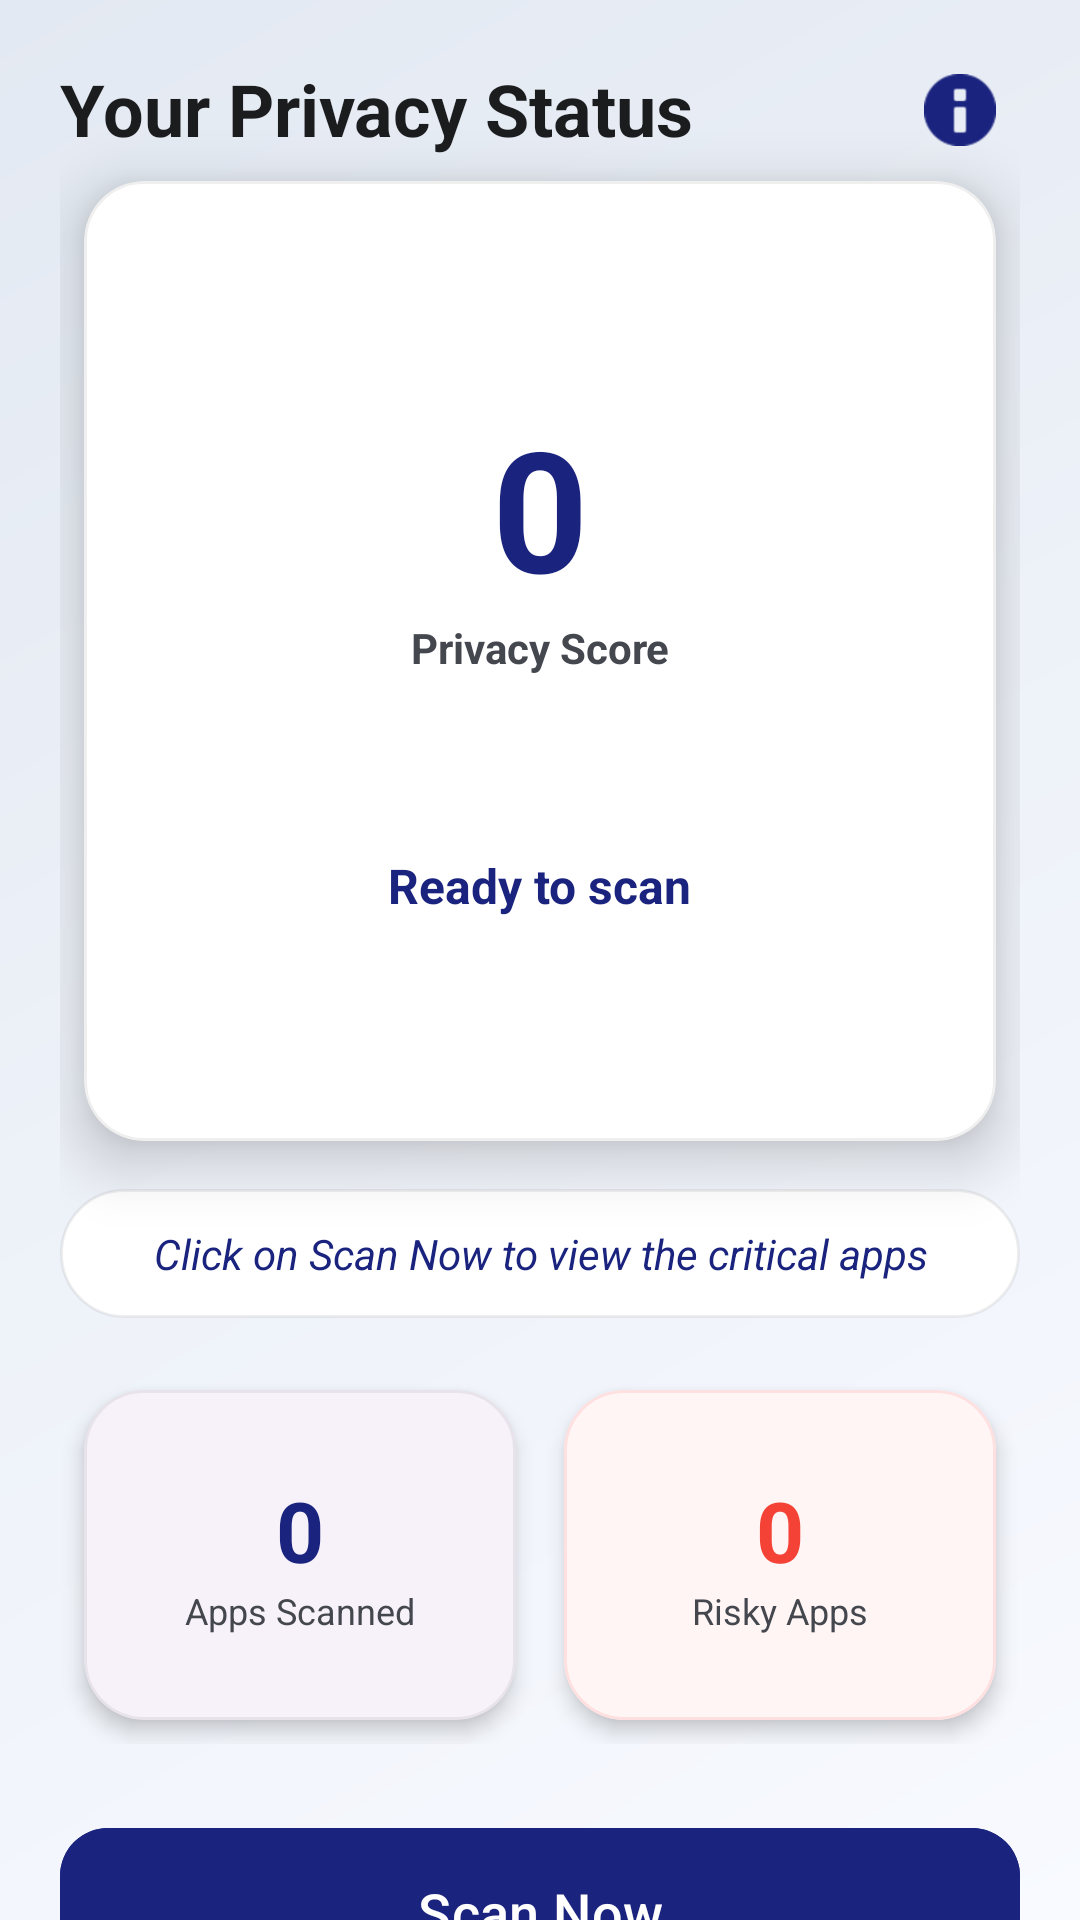

Icons on this 1080 x 1920 Android screen, each with the point to tap as (x,y):
info: (960,110)
